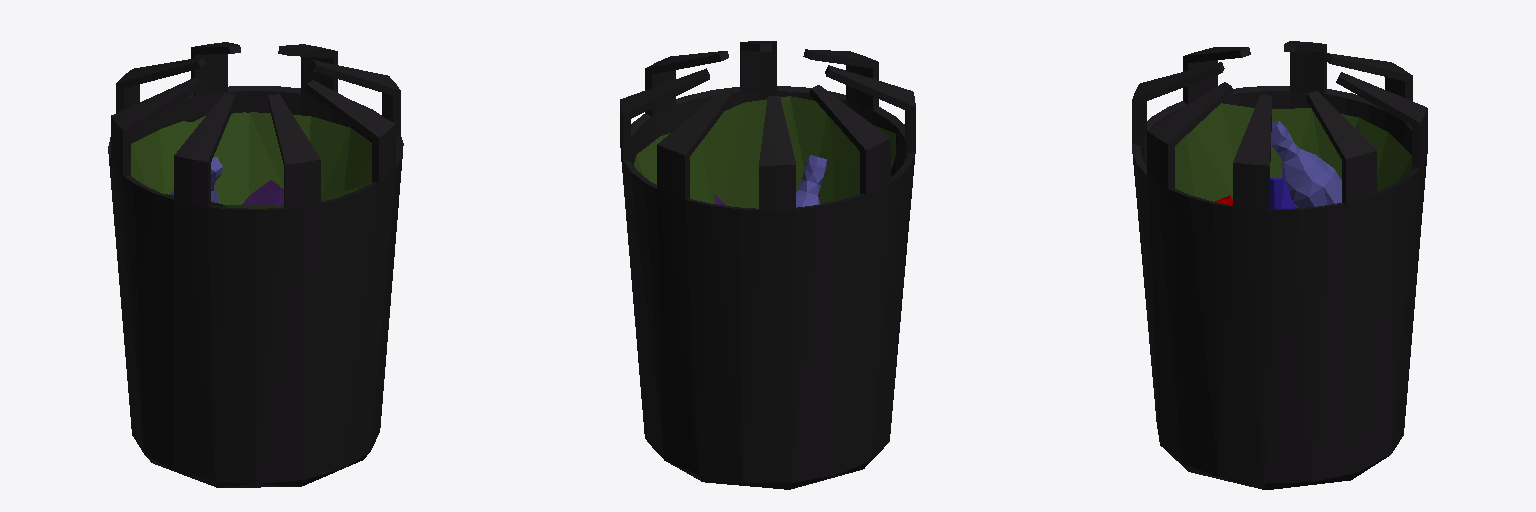
Rendered from waste_basket.obj.
3 renders of one model, left to right at view 1: azimuth 30°, elevation 25°; view 2: azimuth 150°, elevation 25°; view 3: azimuth 270°, elevation 25°, orthographic.
Visible parts, largest first — view 1: Cylinder, Cylinder.001, Papierek.001_Plane.001; view 2: Cylinder, Cylinder.001, Butelka.002_Cylinder.008; view 3: Cylinder, Cylinder.001, Butelka.002_Cylinder.008, Kubek.
Boxes of the visible parts, x1,y1,x2,y2 form: Cylinder: [108, 42, 403, 487]; Cylinder.001: [131, 112, 371, 208]; Papierek.001_Plane.001: [242, 180, 283, 205]; Cylinder: [620, 41, 915, 489]; Cylinder.001: [634, 96, 895, 208]; Butelka.002_Cylinder.008: [796, 155, 826, 207]; Cylinder: [1132, 41, 1427, 489]; Cylinder.001: [1175, 103, 1411, 201]; Butelka.002_Cylinder.008: [1271, 121, 1341, 207]; Kubek: [1270, 178, 1296, 208].
Size of the model in its own units: 0.2843 by 0.3951 by 0.2843.